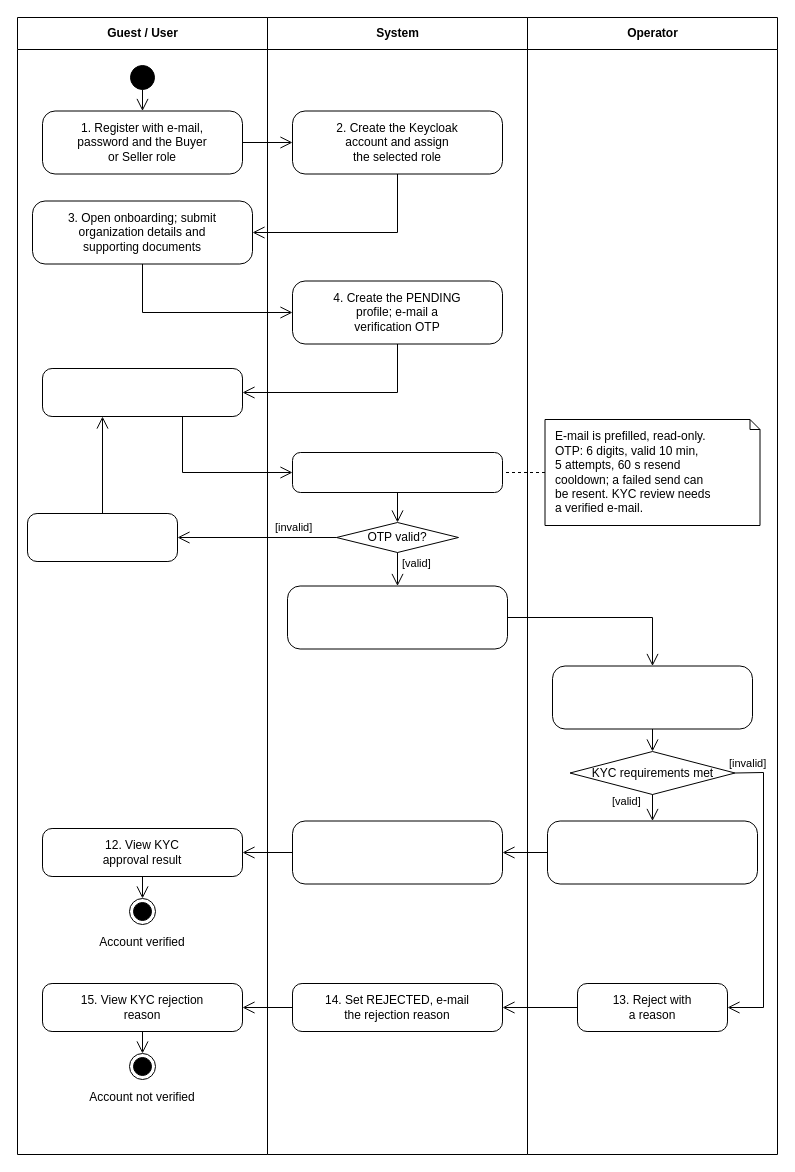
This 795x1172 diagram has some shape labels left out. The centre of each missing label's shape, as x and y in pixels:
"10. Verify KYC; record the authorization expiry (or indefinite)" goes at (x=652, y=852).
"11. Set VERIFIED, e-mail the result; trading is allowed if eligible" goes at (x=397, y=852).
"5. Enter the OTP or request a new code" goes at (x=142, y=392).
"6. Validate the OTP" goes at (x=397, y=472).
"7. Show the error; allow a resend" goes at (x=102, y=537).
"8. Mark the e-mail verified; the profile enters the KYC review queue" goes at (x=397, y=617).
"9. Review the documents and the authority to represent" goes at (x=652, y=697).
